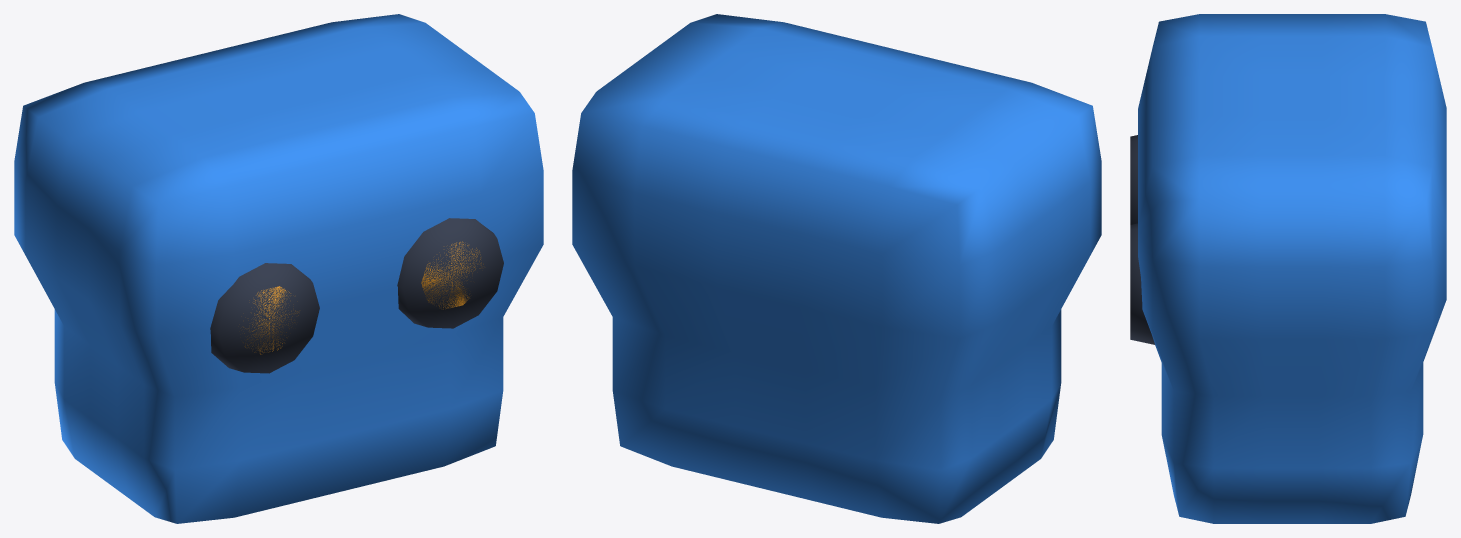
The model's file is torso_turbine.obj.
3 renders of one model, left to right at view 1: azimuth 30°, elevation 25°; view 2: azimuth 150°, elevation 25°; view 3: azimuth 270°, elevation 25°, orthographic.
Bounding box in the file's own units: 0.8968 × 0.76 × 0.605.
